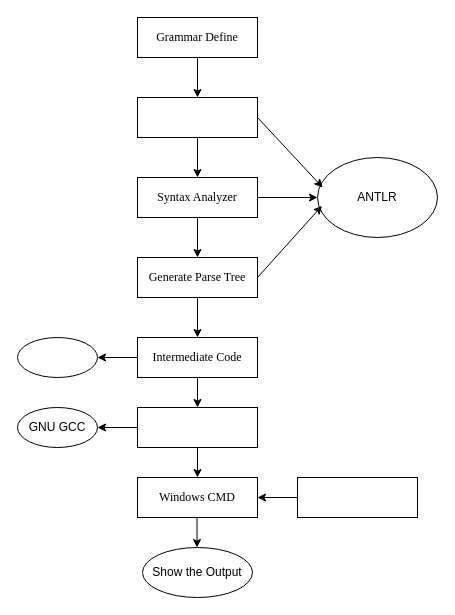
Some shapes in this 455 by 615 pixel diagram are drawn without their labels. Each missing label, with the box of its shape:
C++: (16, 336, 98, 378)
Compile & Generate EXE: (136, 406, 258, 448)
Lexical Analyzer: (136, 96, 258, 138)
Source Code: (296, 476, 418, 518)
